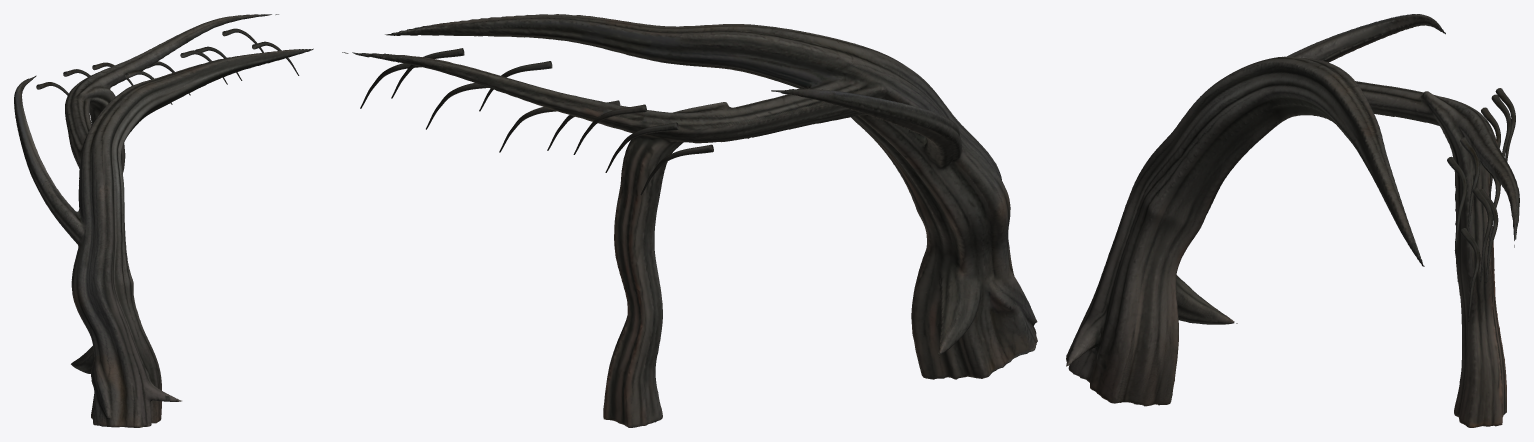
The model's file is tree-bark-textured.glb.
3 views of the same model, side by side, from view 1: azimuth 30°, elevation 25°; view 2: azimuth 150°, elevation 25°; view 3: azimuth 270°, elevation 25° (orthographic). The views are drawn at different scales.
Bounding box in the file's own units: 2 × 1.54 × 1.68.
1 material, 1 textured.
